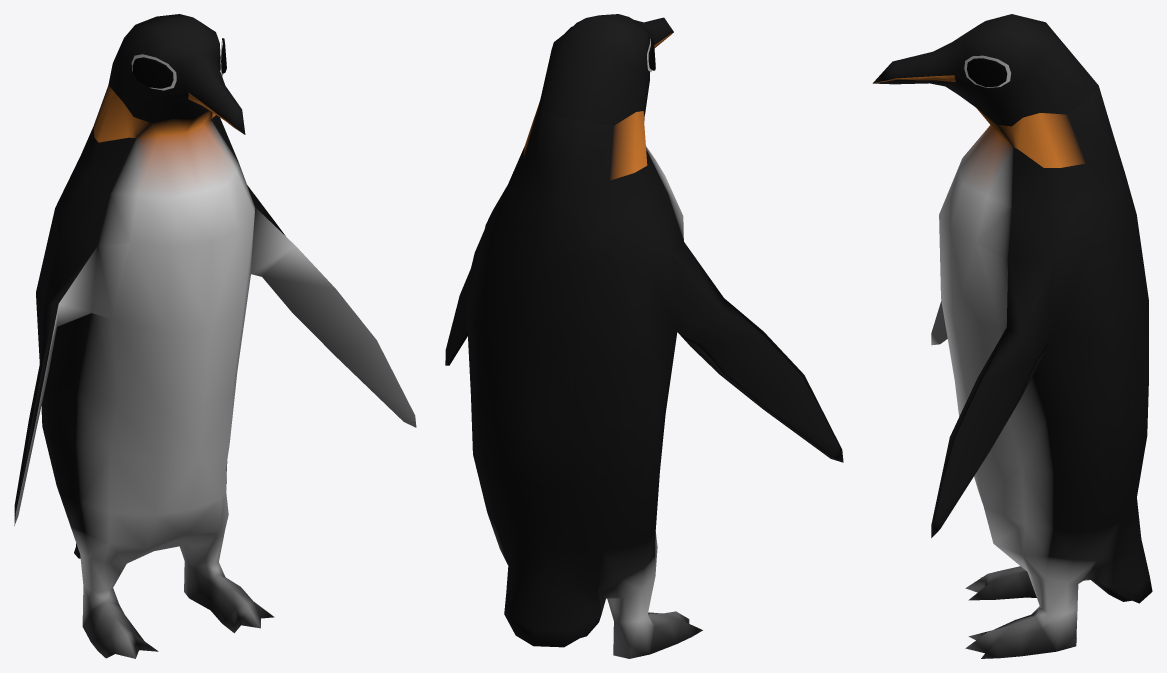
The model's file is kit-penguin.glb.
3 views of the same model, side by side, from view 1: azimuth 30°, elevation 25°; view 2: azimuth 150°, elevation 25°; view 3: azimuth 270°, elevation 25° (orthographic).
Visible parts, largest first — view 1: base; view 2: base; view 3: base.
Part boxes in pixels (x1=…): base: x1=14, y1=14, x2=416, y2=658; base: x1=445, y1=14, x2=843, y2=658; base: x1=872, y1=14, x2=1152, y2=658.
Bounding box in the file's own units: 0.9116 × 1.32 × 0.5585.
